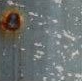Corrosion: (1, 8, 25, 34)
